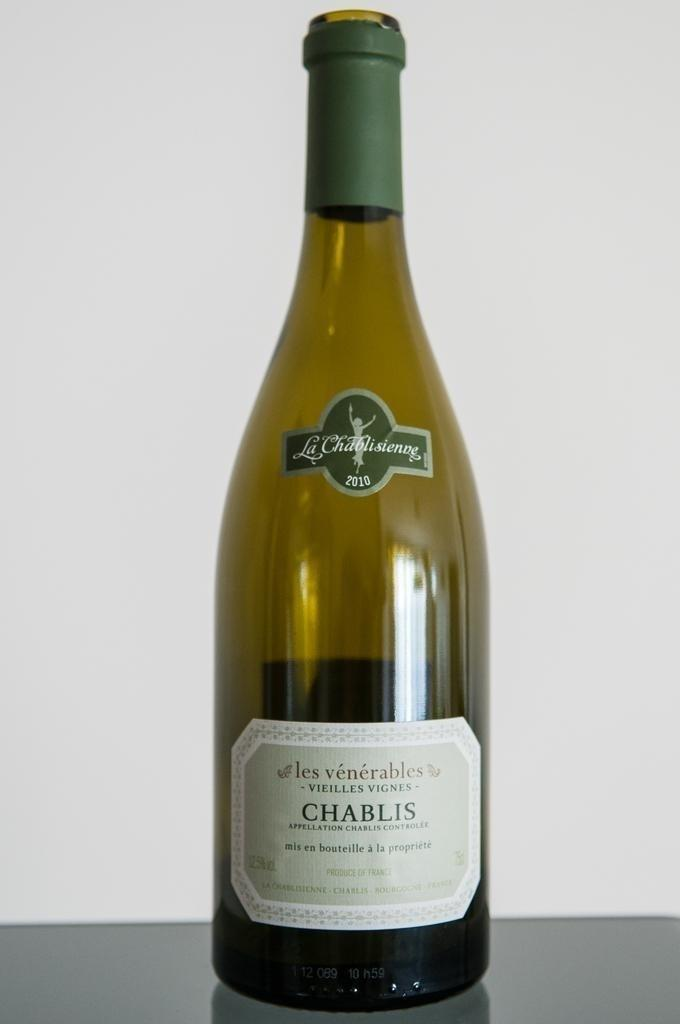bottle-glass: (208, 2, 493, 1014)
